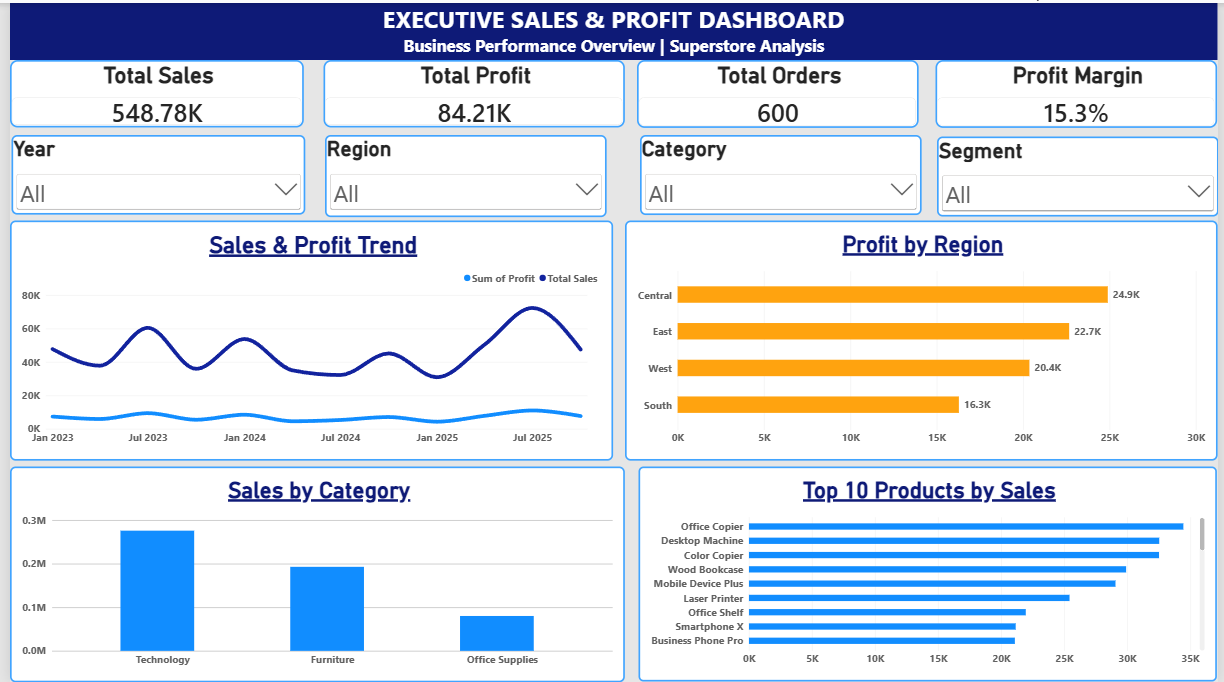

The page's visual inventory and layout, read from the dashboard file:
{"tool":"powerbi","page":{"name":"Executive Dashboard","canvas":[1920,1080],"ordinal":0},"visuals":[{"type":"textbox","box":[0,0,1920.7,90.7],"z":0},{"type":"cardVisual","title":"Total Sales","fields":{"Data":["Superstore.Total Sales"]},"box":[0,90.7,467.6,107.4],"z":1000},{"type":"cardVisual","title":"Total Profit","fields":{"Data":["Superstore.Total Profit"]},"box":[498.7,90.7,479.6,107.4],"z":2000},{"type":"cardVisual","title":"Total Orders","fields":{"Data":["Superstore.Total Orders"]},"box":[997.8,90.7,447.9,107.7],"z":3000},{"type":"cardVisual","title":"Profit Margin","fields":{"Data":["Superstore.Profit Margin"]},"box":[1471.2,90.7,447.9,107.7],"z":4000},{"type":"slicer","title":"Year","fields":{"Values":["Superstore.Order Date.Variation.Date Hierarchy.Year"]},"box":[2.2,210,467.6,126.5],"z":4001},{"type":"slicer","title":"Region","fields":{"Values":["Superstore.Region"]},"box":[502,209.7,447.9,130.4],"z":4002},{"type":"slicer","title":"Category","fields":{"Values":["Superstore.Category"]},"box":[1000.9,209.7,447.9,127.6],"z":4003},{"type":"slicer","title":"Segment","fields":{"Values":["Superstore.Segment"]},"box":[1474.3,212.6,447.9,127.6],"z":4004},{"type":"lineChart","title":"Sales & Profit Trend","fields":{"Category":["Superstore.Order Date.Variation.Date Hierarchy.Year","Superstore.Order Date.Variation.Date Hierarchy.Quarter","Superstore.Order Date.Variation.Date Hierarchy.Month","Superstore.Order Date.Variation.Date Hierarchy.Day"],"Y":["Sum(Superstore.Profit)","Superstore.Total Sales"]},"box":[0,346,959.1,381.7],"z":4005},{"type":"clusteredColumnChart","title":"Sales by Category","fields":{"Category":["Superstore.Category"],"Y":["Superstore.Total Sales"]},"box":[0,737.2,978.2,343.6],"z":4006},{"type":"clusteredBarChart","title":"Profit by Region","fields":{"Category":["Superstore.Region"],"Y":["Superstore.Total Profit"]},"box":[978.2,346,942.4,381.7],"z":4007},{"type":"clusteredBarChart","title":"Top 10 Products by Sales","fields":{"Category":["Superstore.Product Name"],"Y":["Superstore.Total Sales"]},"box":[1000,738,920,342],"z":4008}]}

Visuals, with their boxes in screenshot pixels (x1, y1, x2, y2), scaled from the page's 1920x1080 canvas onto the 1224x682 screenshot:
textbox: 0/0/1223/57
"Total Sales" cardVisual: 0/57/298/125
"Total Profit" cardVisual: 318/57/624/125
"Total Orders" cardVisual: 636/57/922/125
"Profit Margin" cardVisual: 938/57/1223/125
"Year" slicer: 1/133/299/212
"Region" slicer: 320/132/606/215
"Category" slicer: 638/132/924/213
"Segment" slicer: 940/134/1223/215
"Sales & Profit Trend" lineChart: 0/218/611/460
"Sales by Category" clusteredColumnChart: 0/466/624/681
"Profit by Region" clusteredBarChart: 624/218/1223/460
"Top 10 Products by Sales" clusteredBarChart: 638/466/1223/681
